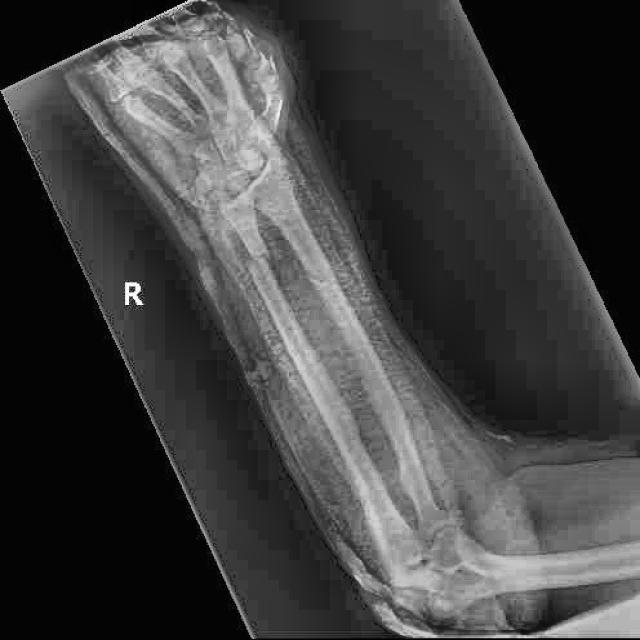forearm fracture: (230, 231, 294, 298), (291, 263, 350, 310)
